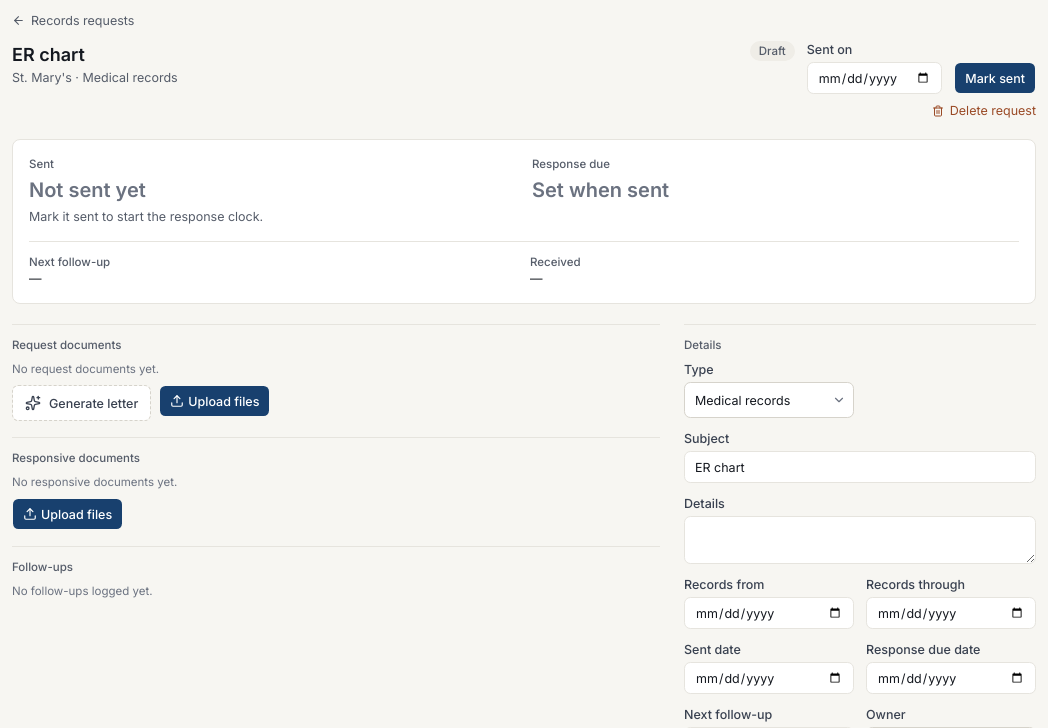
Test: RequestDetail › a failed delete stays put and shows the error
The image size is (1048, 728).
Click the button "Delete request": (984, 110) 932,102 -> 1036,119
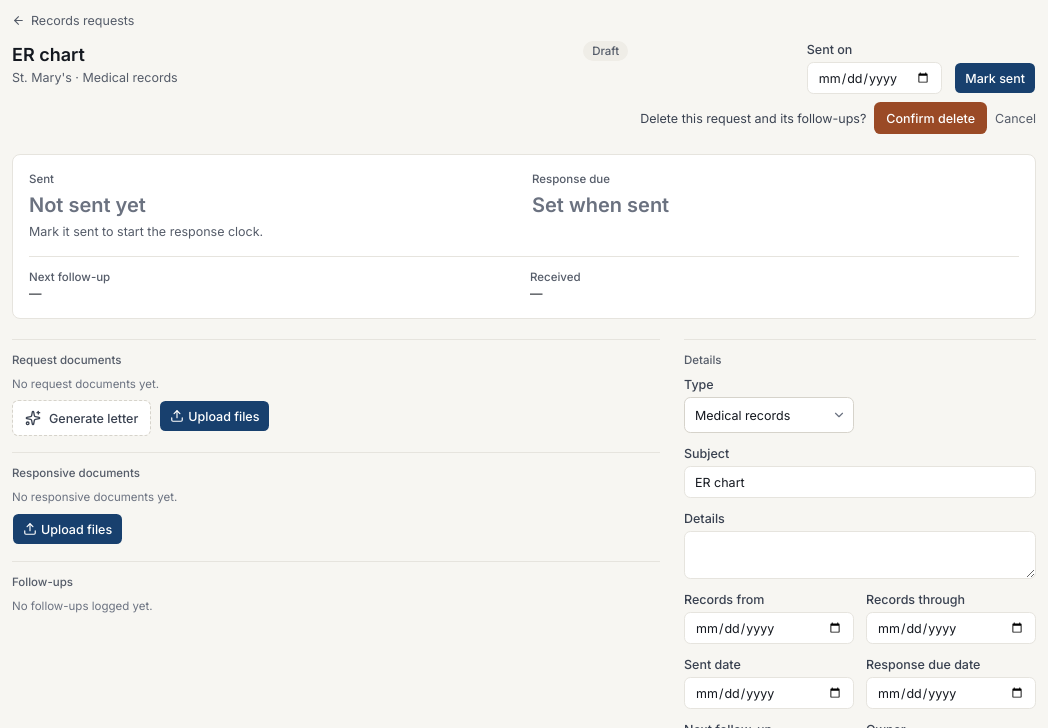
Click the button "Confirm delete": (931, 118) 874,102 -> 987,134
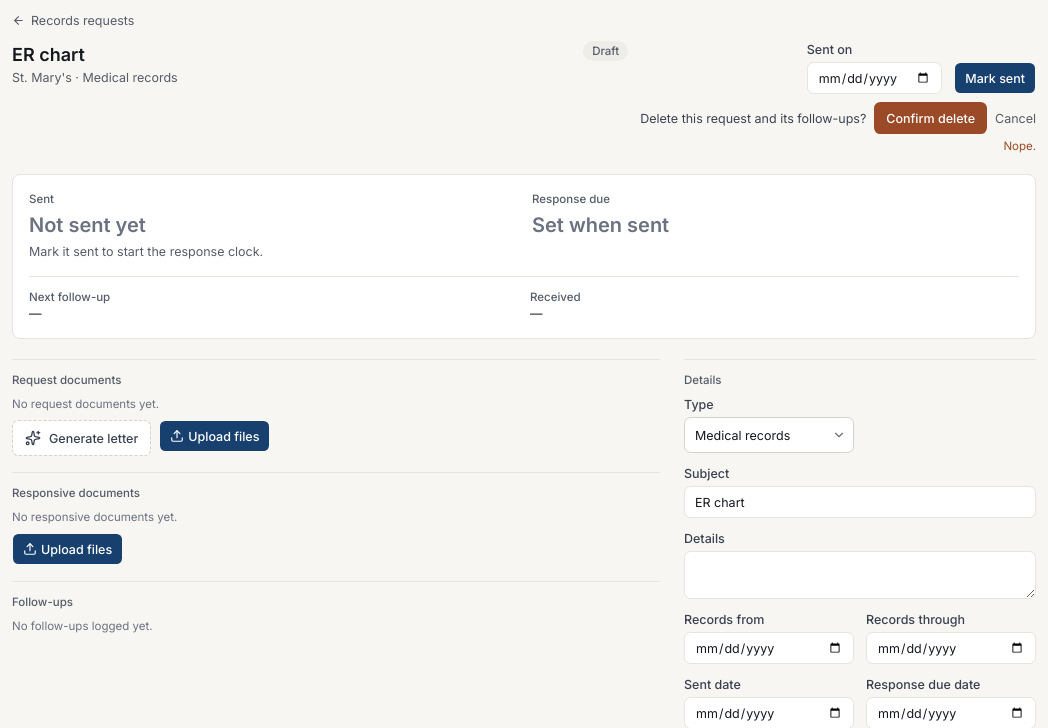
Expected: the text "Nope." is shown, 1003,138 -> 1036,154
